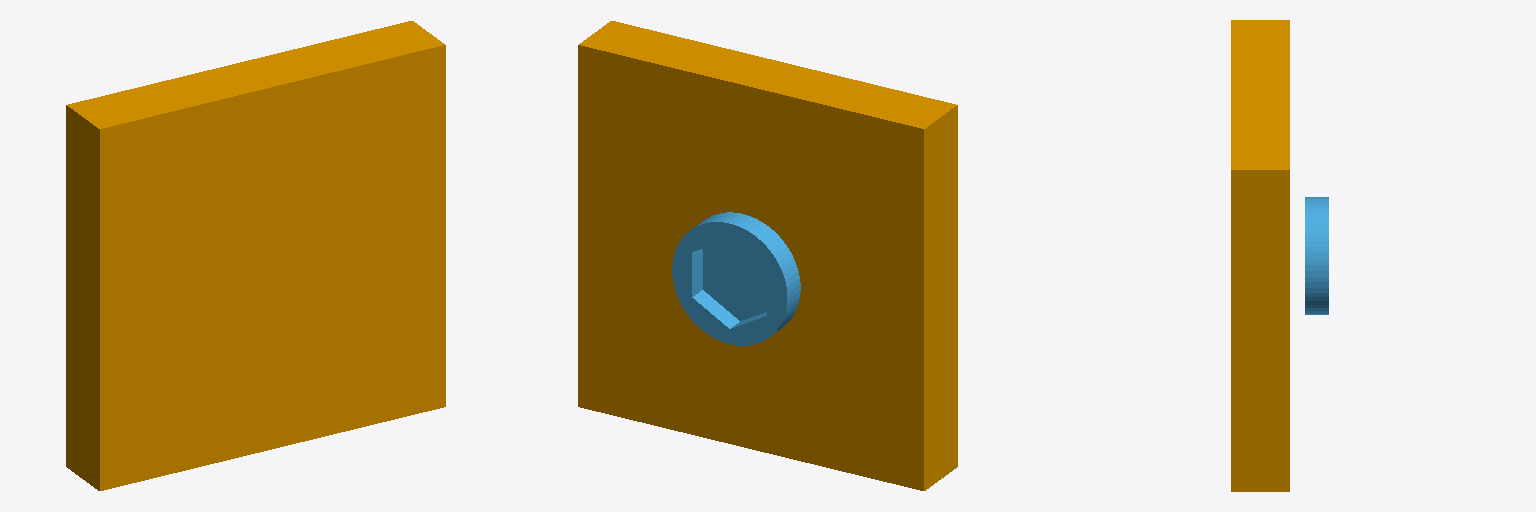
URDF robot description (hex_screw_base):
<?xml version="1.0"?>
<robot name="hex_screw_base">

  <link name="base">
    <visual>
      <origin xyz="0 0.01 0" rpy="0 0 0"/>
      <geometry>
        <box size="0.12 0.02 0.12"/>
      </geometry>
    </visual>	
    <collision>
      <origin xyz="0 0.01 0" rpy="0 0 0"/>
      <geometry>
        <box size="0.12 0.02 0.12"/>
      </geometry>
    </collision>
  </link>

  <link name="screw">
    <visual>
      <origin xyz="0 0 0" rpy="0 0 0"/>
      <geometry>
        <mesh filename="hex_screw/screw_head.obj" scale="0.001 0.00125 0.001"/>
      </geometry>
    </visual>	
    <collision>
      <origin xyz="0 0 0" rpy="0 0 0"/>
      <geometry>
        <mesh filename="hex_screw/screw_head.obj" scale="0.001 0.00125 0.001"/>
      </geometry>
    </collision>
  </link>

  <joint name="screw_to_base" type="revolute">
    <parent link="base"/>
    <child link="screw"/>
    <origin xyz="0 0.025 0"/>
    <axis xyz="0 1 0"/>
    <limit lower="-3.14" upper="3.14" effort="100" velocity="3"/>
  </joint>

</robot>

--- What the picture shows (computed from the rendered views, not written in the file) ---
3 views of the same robot in one strip: view 1: azimuth 30°, elevation 25°; view 2: azimuth 150°, elevation 25°; view 3: azimuth 270°, elevation 25° (orthographic).
Model hex_screw_base with 2 links and 1 joints (1 revolute), rooted at base, posed every joint at zero.
Links seen in each view (by area): view 1: base; view 2: base, screw; view 3: base, screw.
Link boxes in pixels (<box>): base: <box>66,21,445,490</box>; base: <box>578,21,957,490</box>; screw: <box>672,212,800,345</box>; base: <box>1231,20,1289,491</box>; screw: <box>1305,197,1328,314</box>.
Bounding box of the posed robot: 0.12 × 0.0329 × 0.12 m (x, y, z).
Meshes: 1 distinct files referenced, 1 mesh visuals loaded (1 OBJ).